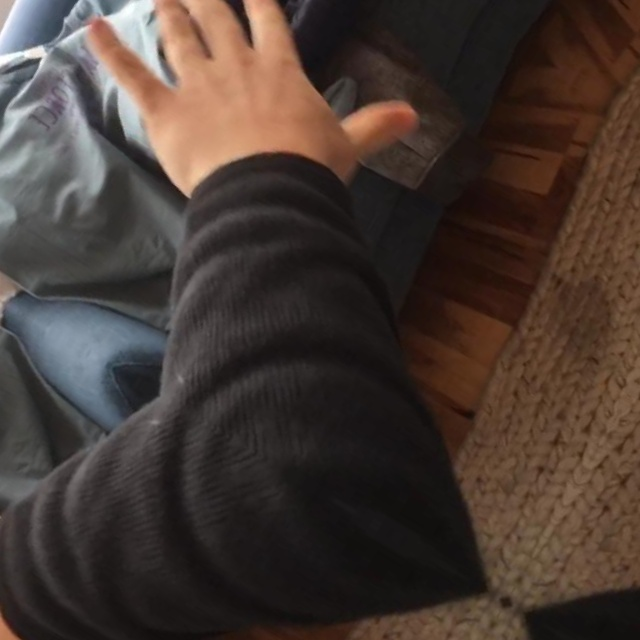Paper: (0, 427, 140, 640)
